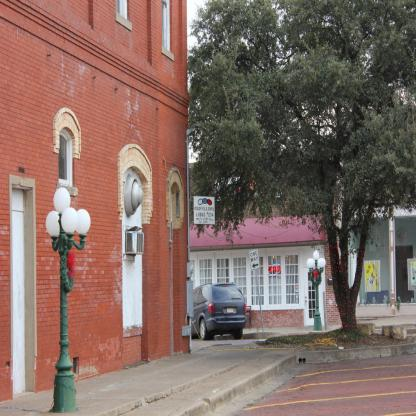Car: (192, 284, 253, 346)
